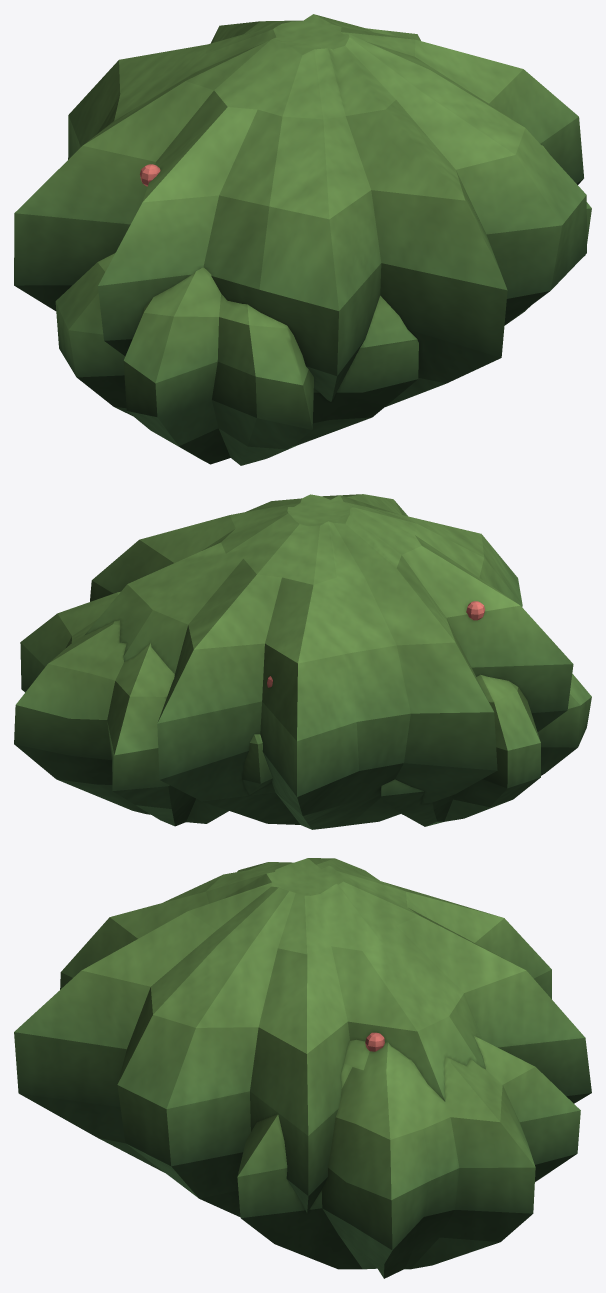
File: bush.glb
3 views of the same model, one above another, from view 1: azimuth 30°, elevation 25°; view 2: azimuth 150°, elevation 25°; view 3: azimuth 270°, elevation 25° (orthographic). The views are drawn at different scales.
Visible parts, largest first — view 1: Bush; view 2: Bush; view 3: Bush.
Boxes of the visible parts, left/top/right/bottom form: Bush: left=14, top=14, right=591, bottom=465; Bush: left=14, top=494, right=591, bottom=829; Bush: left=14, top=858, right=591, bottom=1278.
Bounding box in the file's own units: 1.59 × 0.9619 × 1.53.
Materials: 1 (1 with a texture image).
